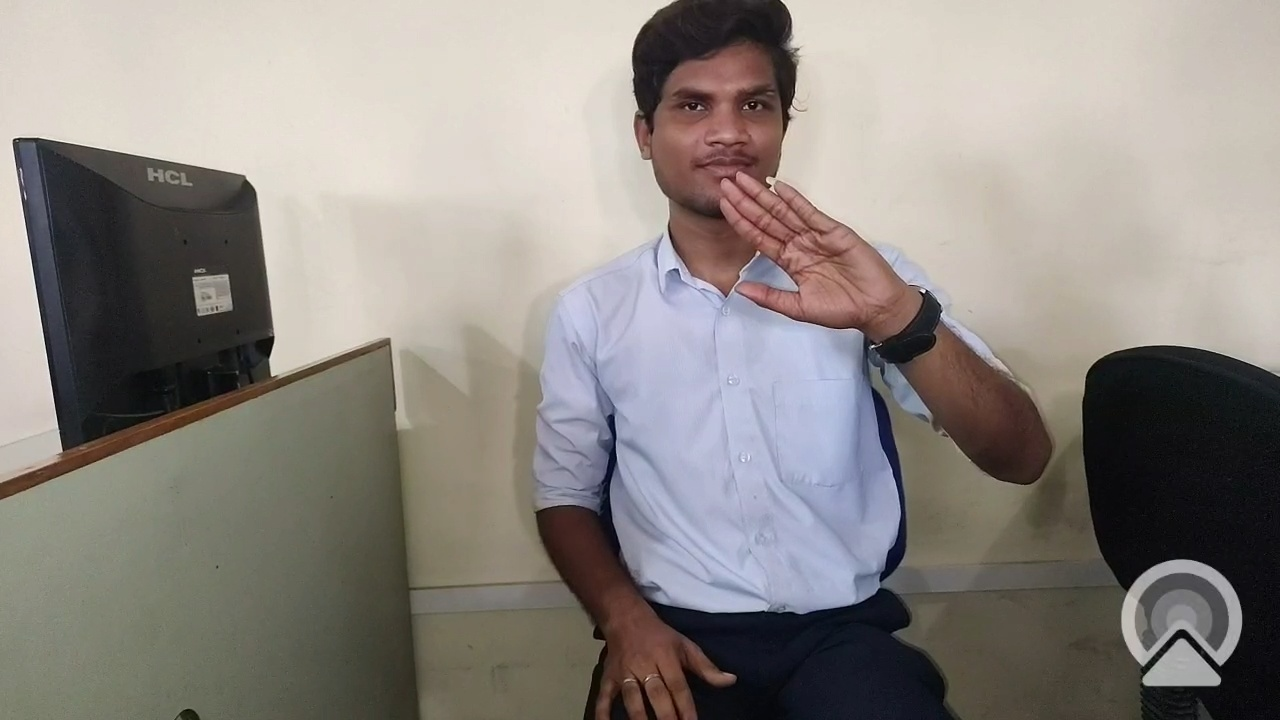Hello: (699, 151, 921, 373)
